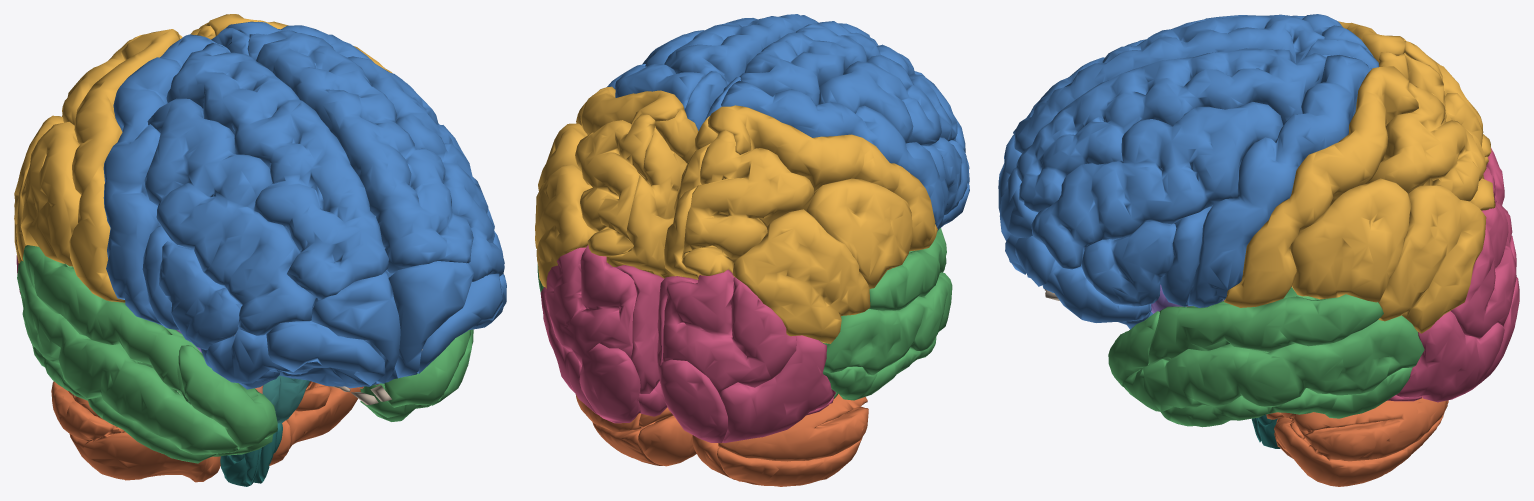
The model's file is cervell.glb.
3 renders of one model, left to right at view 1: azimuth 30°, elevation 25°; view 2: azimuth 150°, elevation 25°; view 3: azimuth 270°, elevation 25°, orthographic. The views are drawn at different scales.
Parts seen in each view (by area): view 1: frontal_L, frontal_R, temporal_L, parietal_L, cerebel_L, temporal_R, cerebel_R, bulb_L, protuberancia_R, parietal_R, bulb_R; view 2: parietal_L, frontal_L, parietal_R, occipital_L, occipital_R, temporal_L, frontal_R, cerebel_L, cerebel_R; view 3: frontal_R, parietal_R, temporal_R, frontal_L, occipital_R, cerebel_R, parietal_L, occipital_L, bulb_R.
Part boxes in pixels (x1=…): frontal_L: x1=103, y1=34, x2=400, y2=389; frontal_R: x1=211, y1=21, x2=506, y2=384; temporal_L: x1=17, y1=245, x2=277, y2=463; parietal_L: x1=14, y1=29, x2=182, y2=302; cerebel_L: x1=51, y1=381, x2=220, y2=482; temporal_R: x1=360, y1=329, x2=473, y2=421; cerebel_R: x1=269, y1=381, x2=360, y2=465; bulb_L: x1=220, y1=449, x2=259, y2=486; protuberancia_R: x1=276, y1=375, x2=309, y2=423; parietal_R: x1=190, y1=14, x2=392, y2=73; bulb_R: x1=253, y1=423, x2=282, y2=483; parietal_L: x1=664, y1=105, x2=937, y2=343; frontal_L: x1=704, y1=21, x2=969, y2=231; parietal_R: x1=535, y1=86, x2=698, y2=288; occipital_L: x1=657, y1=269, x2=835, y2=443; occipital_R: x1=540, y1=245, x2=667, y2=423; temporal_L: x1=819, y1=228, x2=952, y2=400; frontal_R: x1=607, y1=14, x2=818, y2=130; cerebel_L: x1=692, y1=394, x2=868, y2=486; cerebel_R: x1=575, y1=394, x2=696, y2=466; frontal_R: x1=999, y1=48, x2=1371, y2=329; parietal_R: x1=1223, y1=66, x2=1495, y2=333; temporal_R: x1=1108, y1=287, x2=1424, y2=427; frontal_L: x1=998, y1=14, x2=1379, y2=212; occipital_R: x1=1387, y1=198, x2=1519, y2=402; cerebel_R: x1=1266, y1=396, x2=1448, y2=486; parietal_L: x1=1338, y1=21, x2=1491, y2=164; occipital_L: x1=1483, y1=148, x2=1516, y2=272; bulb_R: x1=1251, y1=414, x2=1280, y2=448.
Bounding box in the file's own units: 0.1371 × 0.1461 × 0.167.
